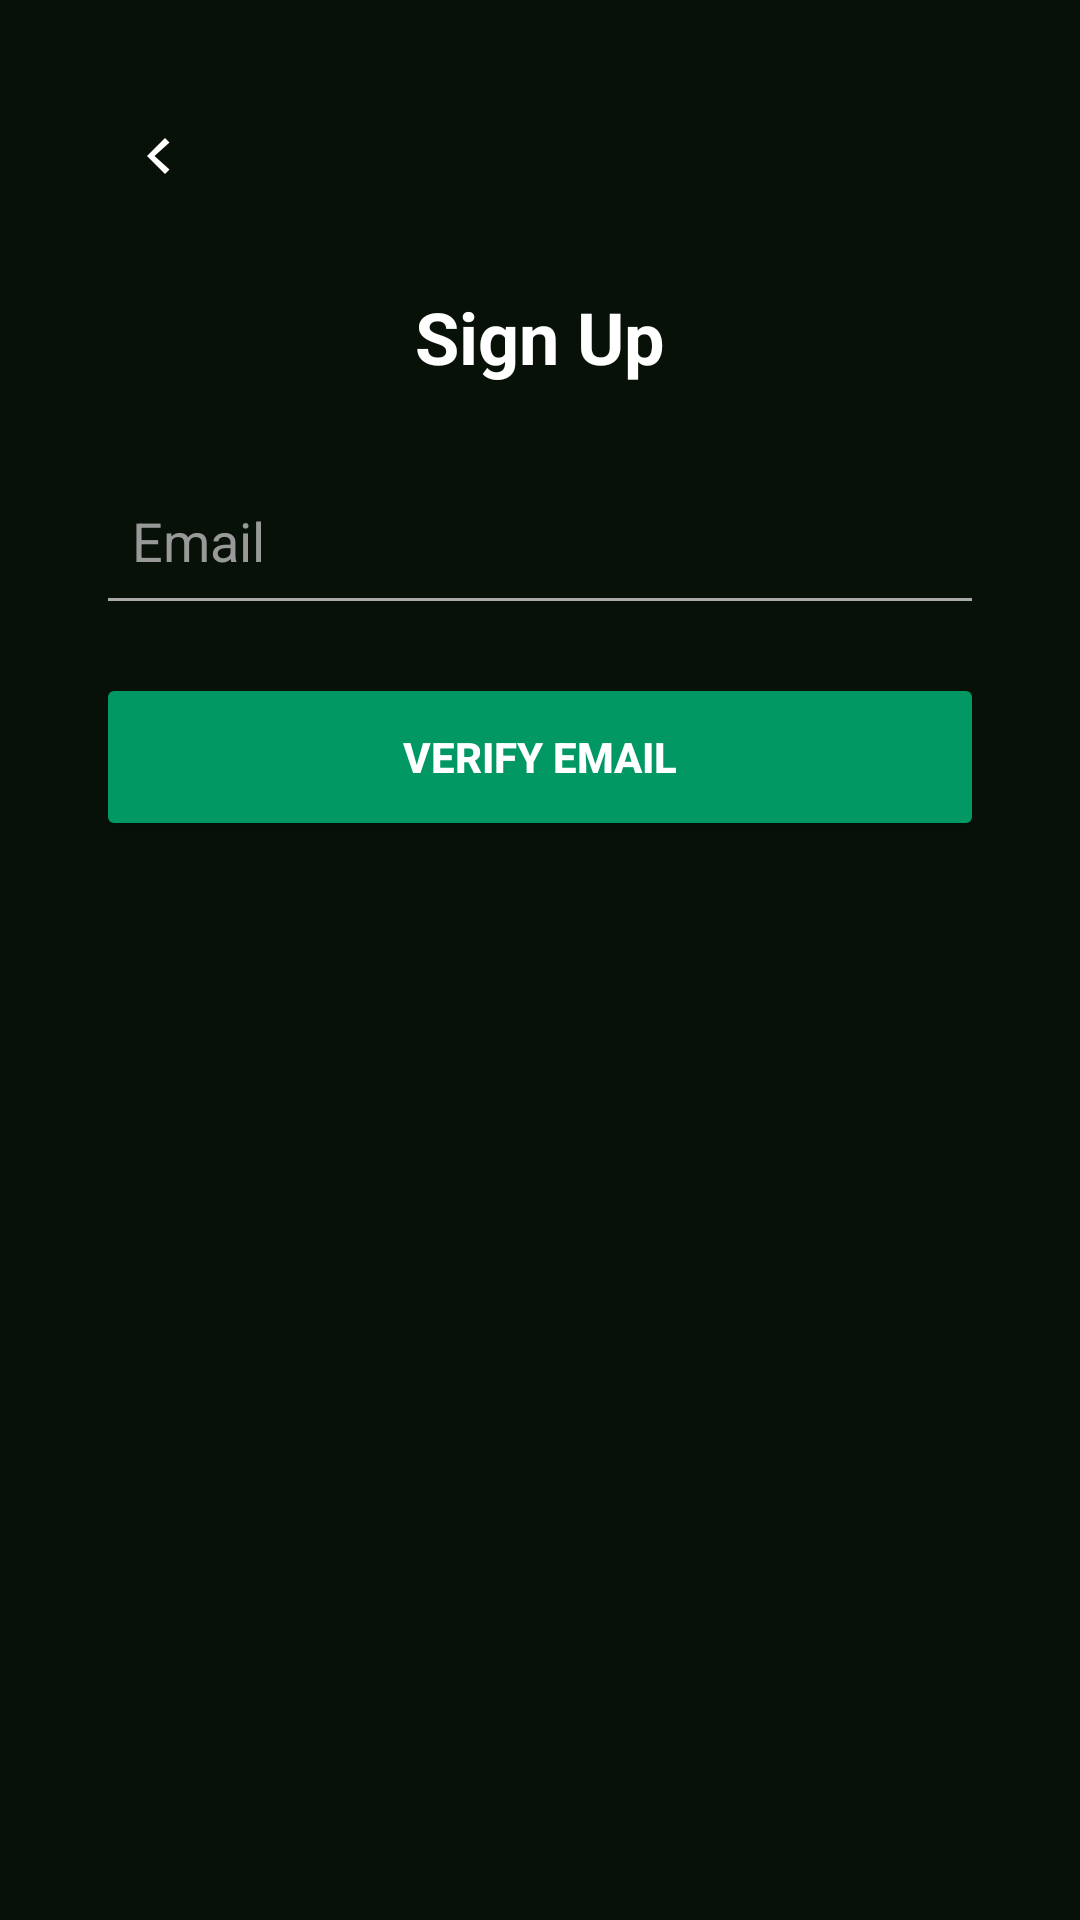

Named icons in this screenshot (1080w x 1920h) and their bounding boxes, [left=x1, top=y1, right=x2, bottom=y2]:
Back Button: [left=147, top=138, right=170, bottom=174]
